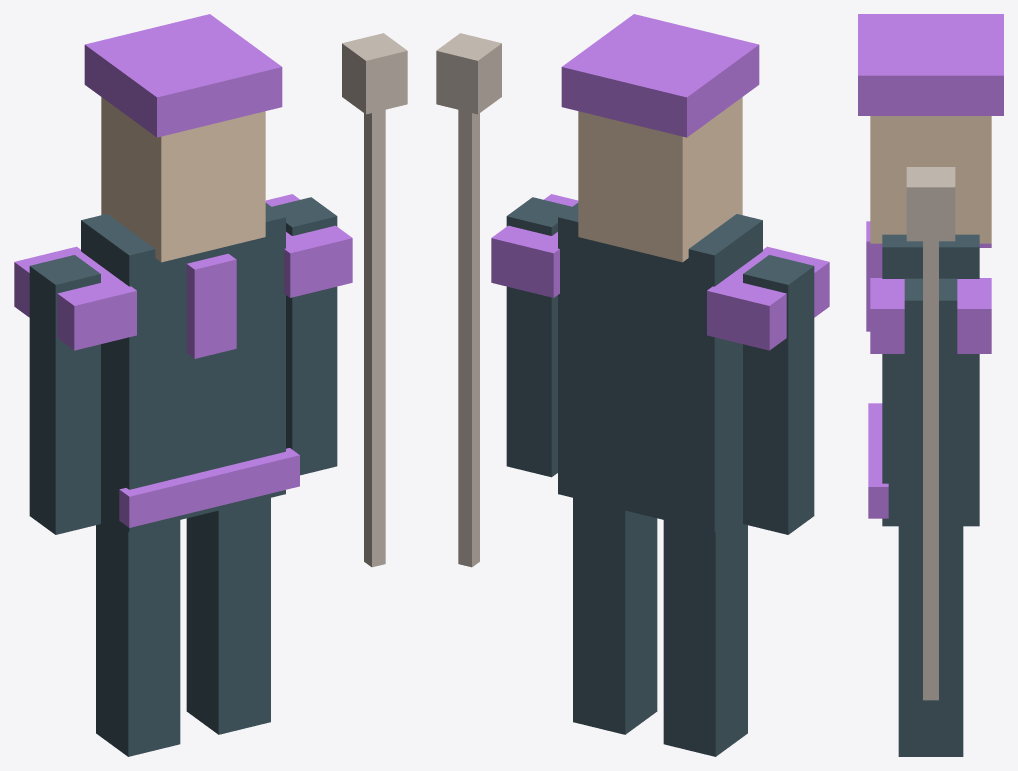
The model's file is 10_mirek_trenchmark_medic_of_isolation.glb.
The picture shows the model from 3 angles, left to right: view 1: azimuth 30°, elevation 25°; view 2: azimuth 150°, elevation 25°; view 3: azimuth 270°, elevation 25°; orthographic projection.
Parts seen in each view (by area): view 1: Mirek Trenchmark, Medic of Isolation; view 2: Mirek Trenchmark, Medic of Isolation; view 3: Mirek Trenchmark, Medic of Isolation.
Part boxes in pixels (x1,y1,x2,y2): Mirek Trenchmark, Medic of Isolation: (14, 14, 407, 756); Mirek Trenchmark, Medic of Isolation: (436, 14, 829, 756); Mirek Trenchmark, Medic of Isolation: (858, 14, 1003, 756).
Size of the model in its own units: 0.9386 by 1.71 by 0.3329.
